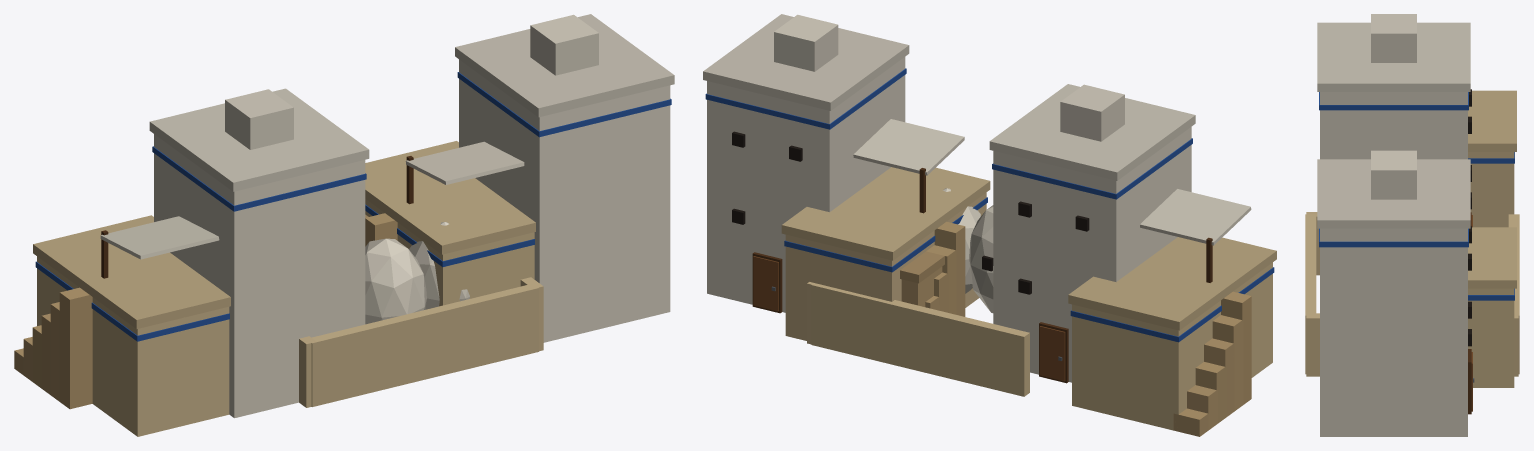
File: gnoll_row_broken.glb
The picture shows the model from 3 angles, left to right: view 1: azimuth 30°, elevation 25°; view 2: azimuth 150°, elevation 25°; view 3: azimuth 270°, elevation 25°; orthographic projection. The views are drawn at different scales.
Visible parts, largest first — view 1: gnoll_row_piece6, gnoll_row_piece7, gnoll_row_piece1, gnoll_row_piece0, gnoll_row_piece9, gnoll_row_piece10, gnoll_row_piece3, gnoll_row_piece5, gnoll_row_piece4, gnoll_row_piece2, gnoll_row_piece13; view 2: gnoll_row_piece4, gnoll_row_piece0, gnoll_row_piece3, gnoll_row_piece1, gnoll_row_piece13, gnoll_row_piece2, gnoll_row_piece10, gnoll_row_piece6, gnoll_row_piece7, gnoll_row_piece5, gnoll_row_piece12, gnoll_row_piece9 (+2 smaller); view 3: gnoll_row_piece4, gnoll_row_piece3, gnoll_row_piece8, gnoll_row_piece7, gnoll_row_piece6, gnoll_row_piece10, gnoll_row_piece5, gnoll_row_piece13, gnoll_row_piece0, gnoll_row_piece2, gnoll_row_piece1, gnoll_row_piece9.
Boxes of the visible parts, <box> form: gnoll_row_piece6: <box>483,72,674,362</box>; gnoll_row_piece7: <box>186,106,376,357</box>; gnoll_row_piece1: <box>320,116,510,405</box>; gnoll_row_piece0: <box>14,128,185,436</box>; gnoll_row_piece9: <box>136,234,342,425</box>; gnoll_row_piece10: <box>455,14,662,145</box>; gnoll_row_piece3: <box>146,89,366,287</box>; gnoll_row_piece5: <box>365,66,670,217</box>; gnoll_row_piece4: <box>365,14,638,182</box>; gnoll_row_piece2: <box>272,78,511,215</box>; gnoll_row_piece13: <box>118,115,176,227</box>; gnoll_row_piece4: <box>703,38,880,356</box>; gnoll_row_piece0: <box>1086,163,1276,436</box>; gnoll_row_piece3: <box>993,86,1221,331</box>; gnoll_row_piece1: <box>866,105,993,316</box>; gnoll_row_piece13: <box>1025,163,1126,408</box>; gnoll_row_piece2: <box>860,67,1026,365</box>; gnoll_row_piece10: <box>749,14,870,175</box>; gnoll_row_piece6: <box>778,14,949,176</box>; gnoll_row_piece7: <box>1038,84,1195,205</box>; gnoll_row_piece5: <box>771,16,943,306</box>; gnoll_row_piece12: <box>959,326,1028,396</box>; gnoll_row_piece9: <box>1163,193,1276,256</box>; gnoll_row_piece4: <box>1354,182,1519,436</box>; gnoll_row_piece3: <box>1373,14,1471,209</box>; gnoll_row_piece8: <box>1345,316,1491,436</box>; gnoll_row_piece7: <box>1305,14,1378,235</box>; gnoll_row_piece6: <box>1305,159,1370,436</box>; gnoll_row_piece10: <box>1338,150,1470,245</box>; gnoll_row_piece5: <box>1323,192,1395,391</box>; gnoll_row_piece13: <box>1449,22,1516,227</box>; gnoll_row_piece0: <box>1447,22,1516,136</box>; gnoll_row_piece2: <box>1462,76,1519,287</box>; gnoll_row_piece1: <box>1305,234,1316,295</box>; gnoll_row_piece9: <box>1305,212,1319,275</box>.
Bounding box in the file's own units: 4.12 × 1.93 × 1.51.
